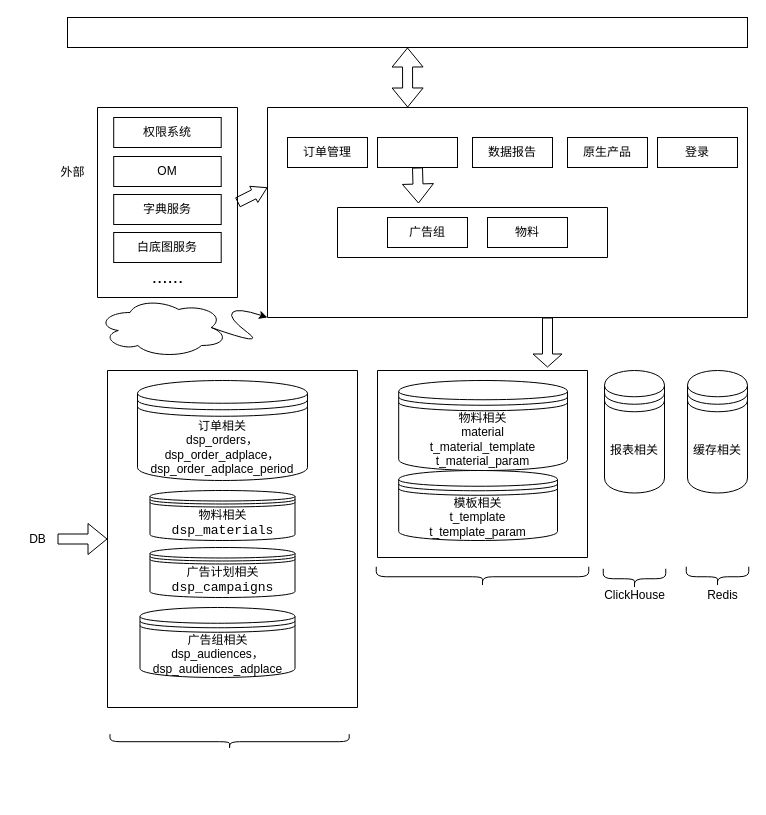
The diagram is 766 pixels wide and 815 high, and some of its shapes have lost their labels. Each missing label, with the box of its shape:
mysql-DspDB: (109, 733, 349, 749)
mysql-SspDB: (375, 566, 589, 587)
Web: (66, 16, 748, 48)
投过管理: (376, 136, 458, 168)
消息通信kafka: (96, 296, 228, 358)
